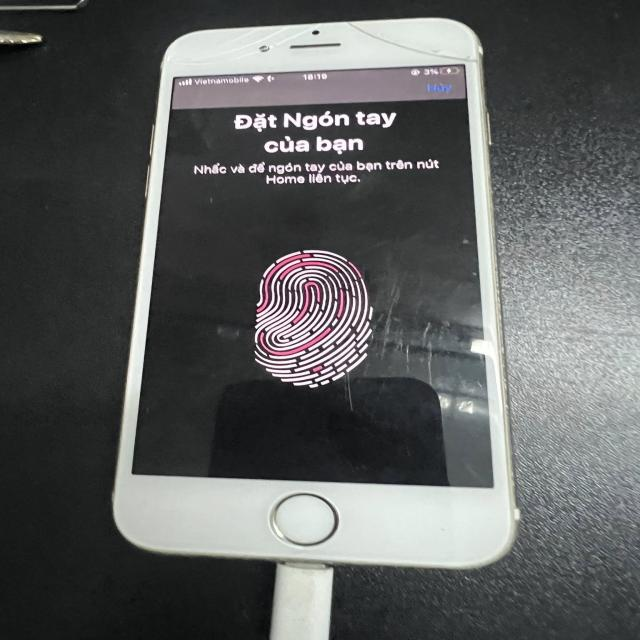physical_damage: (340, 18, 500, 82), (230, 18, 320, 61), (160, 53, 243, 97)
scratch: (318, 252, 482, 411)
